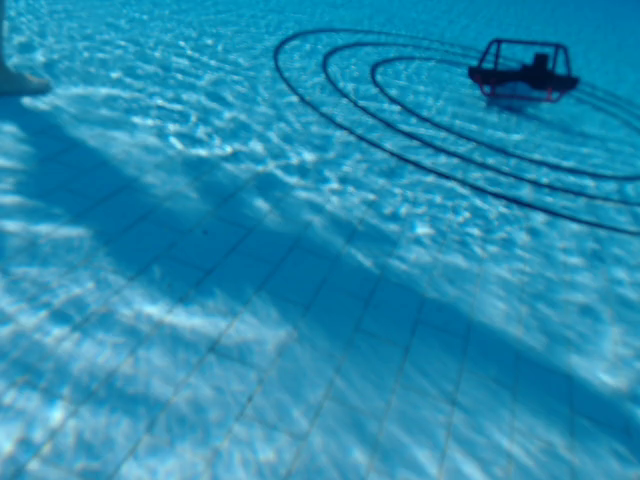submarine: (466, 37, 580, 110)
